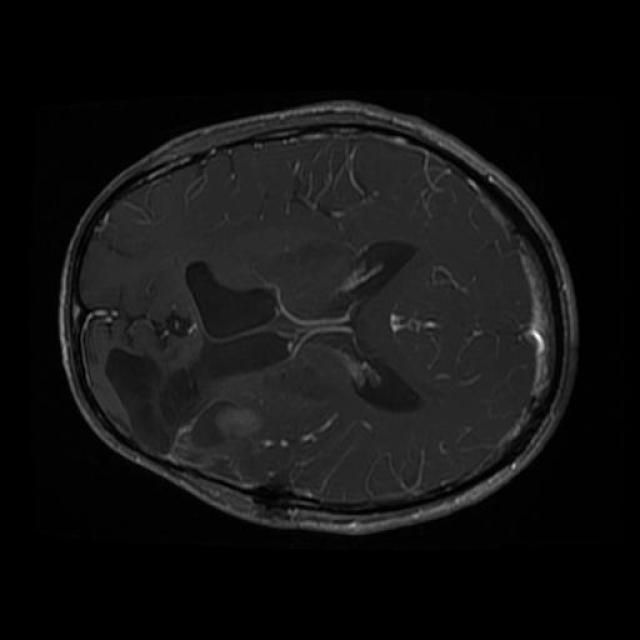Glioma: (105, 353, 203, 452)
